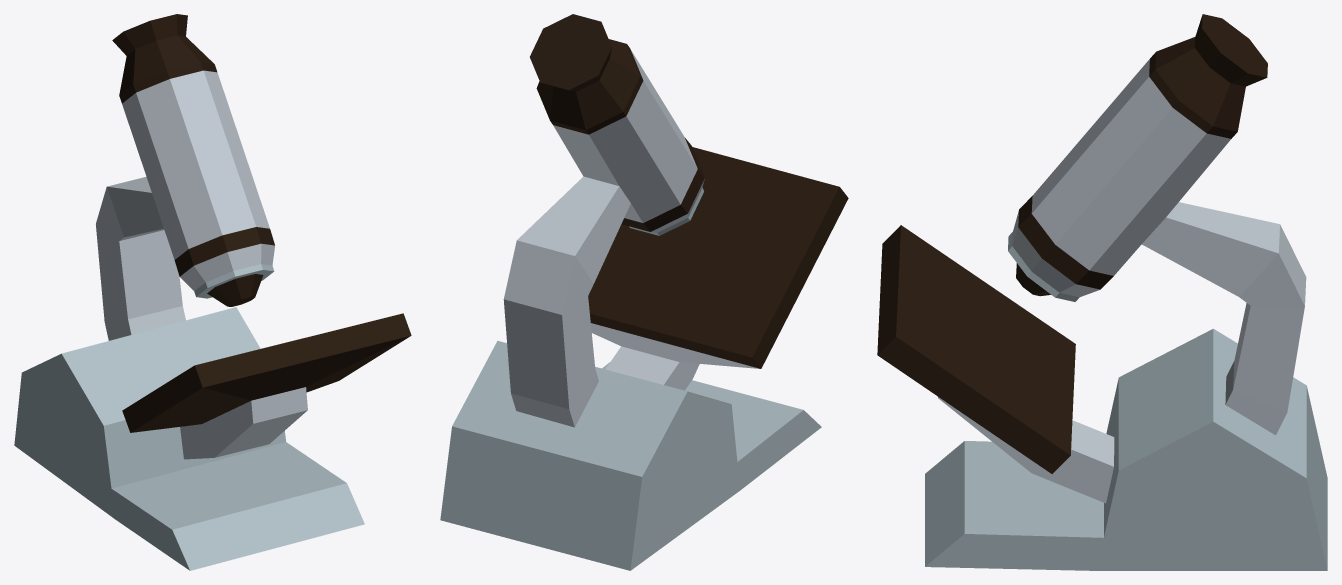
Rendered from professional_scientific_and_technical_services.gltf.
The picture shows the model from 3 angles, left to right: view 1: azimuth 30°, elevation 25°; view 2: azimuth 150°, elevation 25°; view 3: azimuth 270°, elevation 25°; orthographic projection. The views are drawn at different scales.
Parts seen in each view (by area): view 1: Professional, Scientific, and Technical Services; view 2: Professional, Scientific, and Technical Services; view 3: Professional, Scientific, and Technical Services.
Boxes of the visible parts, bbox=[...] form: Professional, Scientific, and Technical Services: bbox=[14, 14, 411, 570]; Professional, Scientific, and Technical Services: bbox=[440, 14, 848, 570]; Professional, Scientific, and Technical Services: bbox=[877, 14, 1327, 570].
Bounding box in the file's own units: 0.5744 × 1.16 × 0.9294.
Materials: 1 (1 with a texture image).
